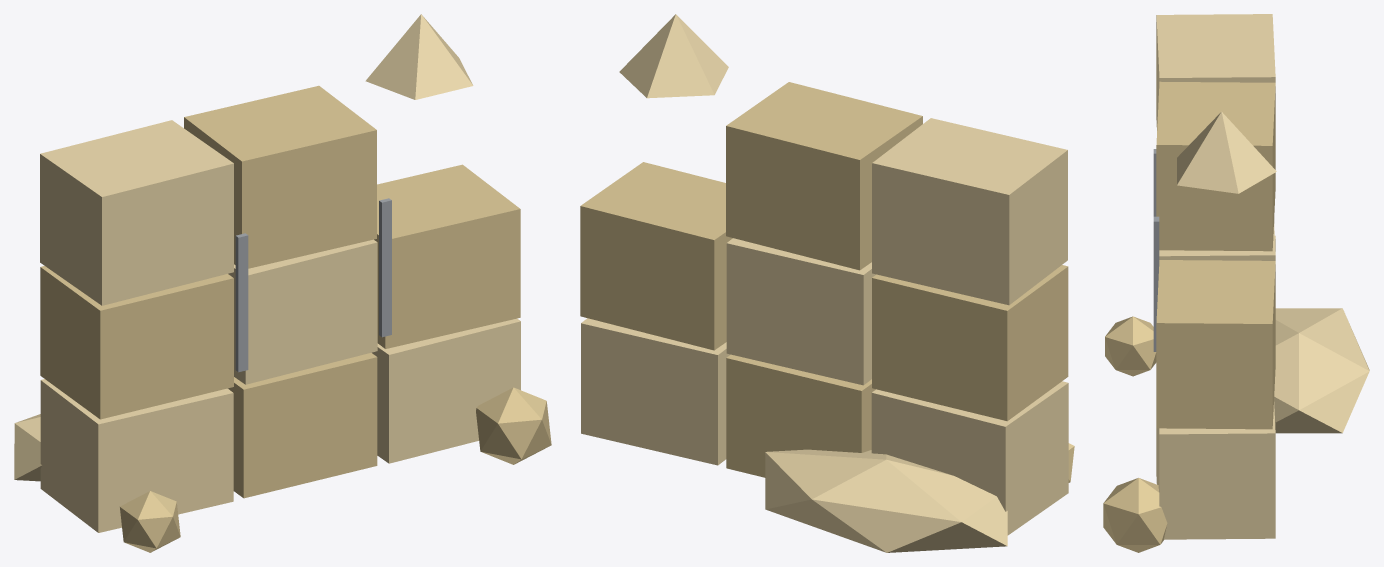
File: desert_ruin_wall.glb
3 renders of one model, left to right at view 1: azimuth 30°, elevation 25°; view 2: azimuth 150°, elevation 25°; view 3: azimuth 270°, elevation 25°, orthographic. The views are drawn at different scales.
Visible parts, largest first — view 1: block_2_0, block_2_1, block_1_0, block_0_0, block_1_2, block_0_1, block_1_1, block_0_2, broken_top, rubble_0, rubble_1, crack_0 (+2 smaller); view 2: block_2_0, block_2_1, block_1_2, block_1_0, dune, block_0_2, block_1_1, block_0_0, block_0_1, broken_top; view 3: block_1_2, block_2_1, block_0_2, dune, block_2_0, broken_top, rubble_0, rubble_1, block_1_1, crack_1.
Part boxes in pixels (x1,y1,x2,y2): block_2_0: [40, 120, 233, 305]; block_2_1: [184, 85, 376, 268]; block_1_0: [40, 266, 233, 419]; block_0_0: [40, 379, 233, 532]; block_1_2: [374, 164, 520, 348]; block_0_1: [228, 352, 377, 498]; block_1_1: [228, 239, 377, 384]; block_0_2: [372, 318, 520, 463]; broken_top: [365, 14, 473, 99]; rubble_0: [476, 387, 551, 464]; rubble_1: [120, 491, 180, 552]; crack_0: [235, 233, 248, 372]; block_2_0: [872, 118, 1067, 305]; block_2_1: [726, 82, 922, 270]; block_1_2: [580, 162, 732, 350]; block_1_0: [872, 265, 1068, 421]; dune: [765, 449, 1007, 552]; block_0_2: [581, 318, 730, 465]; block_1_1: [726, 238, 875, 385]; block_0_0: [871, 381, 1068, 535]; block_0_1: [726, 354, 875, 477]; broken_top: [619, 14, 728, 98]; block_1_2: [1156, 260, 1275, 429]; block_2_1: [1156, 81, 1275, 251]; block_0_2: [1156, 402, 1275, 539]; dune: [1274, 308, 1369, 433]; block_2_0: [1156, 14, 1275, 130]; broken_top: [1177, 111, 1276, 193]; rubble_0: [1103, 478, 1167, 552]; rubble_1: [1105, 316, 1156, 376]; block_1_1: [1159, 224, 1275, 260]; crack_1: [1153, 216, 1159, 351].
Size of the model in its own units: 1.82 by 1.67 by 0.9628.
